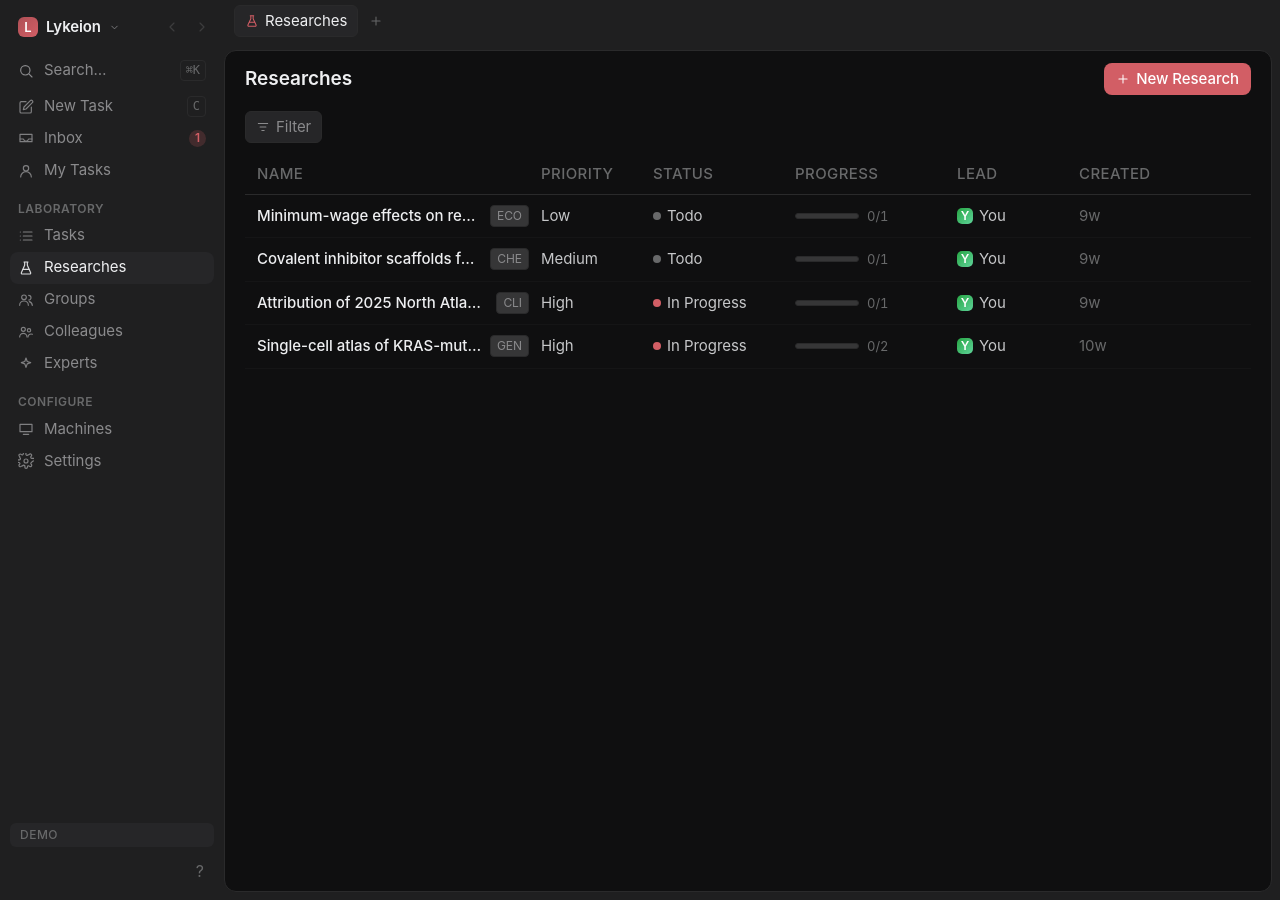
Scenario: My Tasks keeps the work of an archived research
The image size is (1280, 900).
Click the link "My Tasks".
click(64, 170)  # box [18,160,111,179]
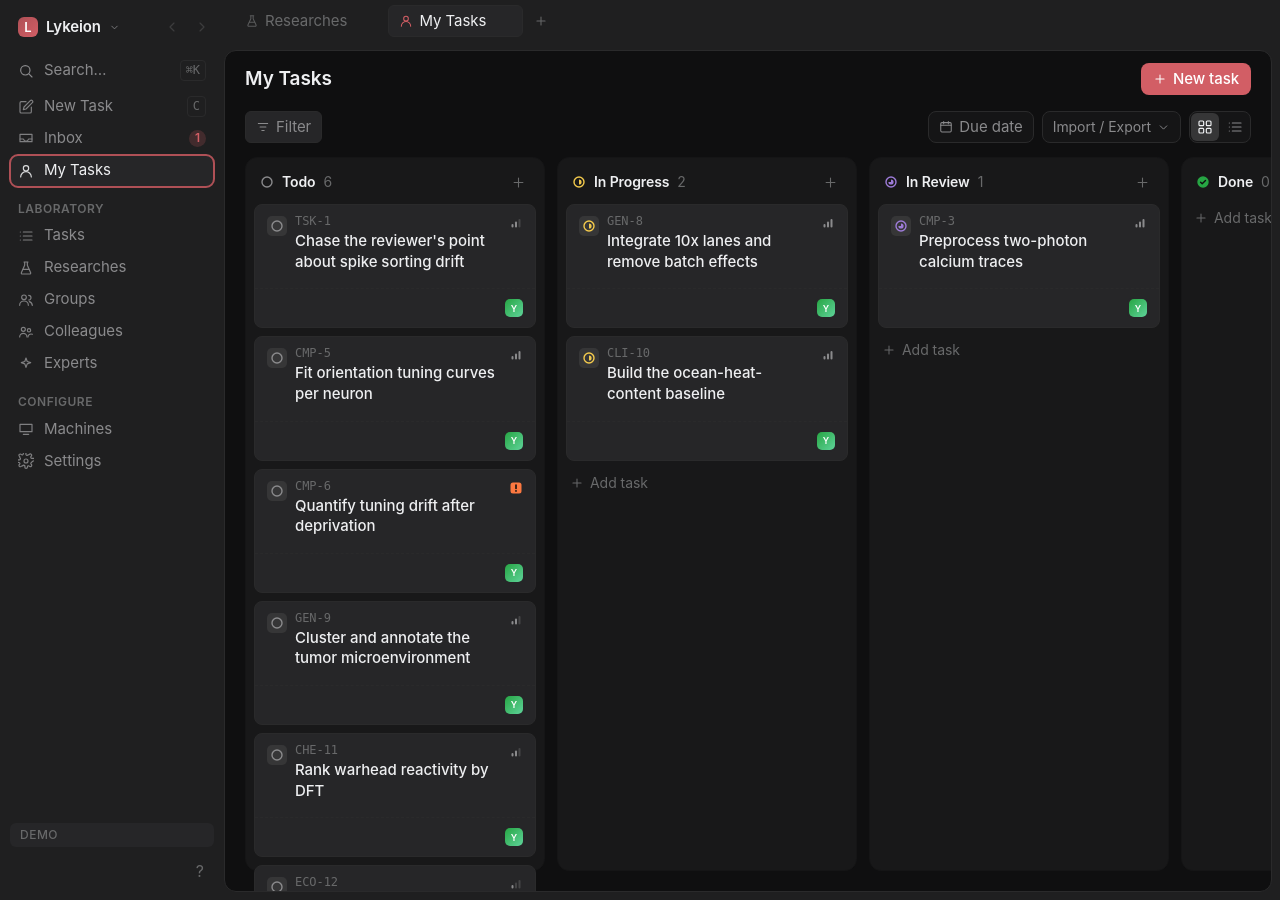
Expected: the text "Quantify tuning drift after deprivation" is shown, [295,496,501,537]
